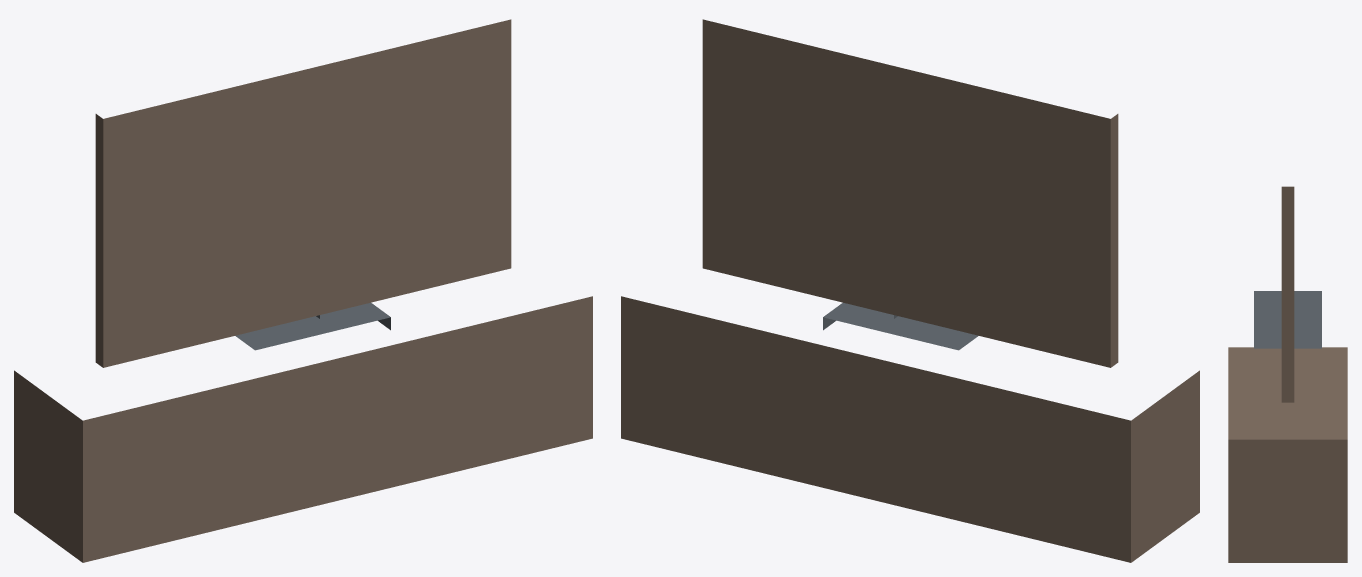
File: tv_unit.glb
The picture shows the model from 3 angles, left to right: view 1: azimuth 30°, elevation 25°; view 2: azimuth 150°, elevation 25°; view 3: azimuth 270°, elevation 25°; orthographic projection. The views are drawn at different scales.
Visible parts, largest first — view 1: RootNode; view 2: RootNode; view 3: RootNode.
Boxes of the visible parts, x1,y1,x2,y2 form: RootNode: (14, 19, 592, 562); RootNode: (621, 19, 1199, 562); RootNode: (1228, 186, 1347, 562).
Bounding box in the file's own units: 6 × 4.6 × 1.4.
